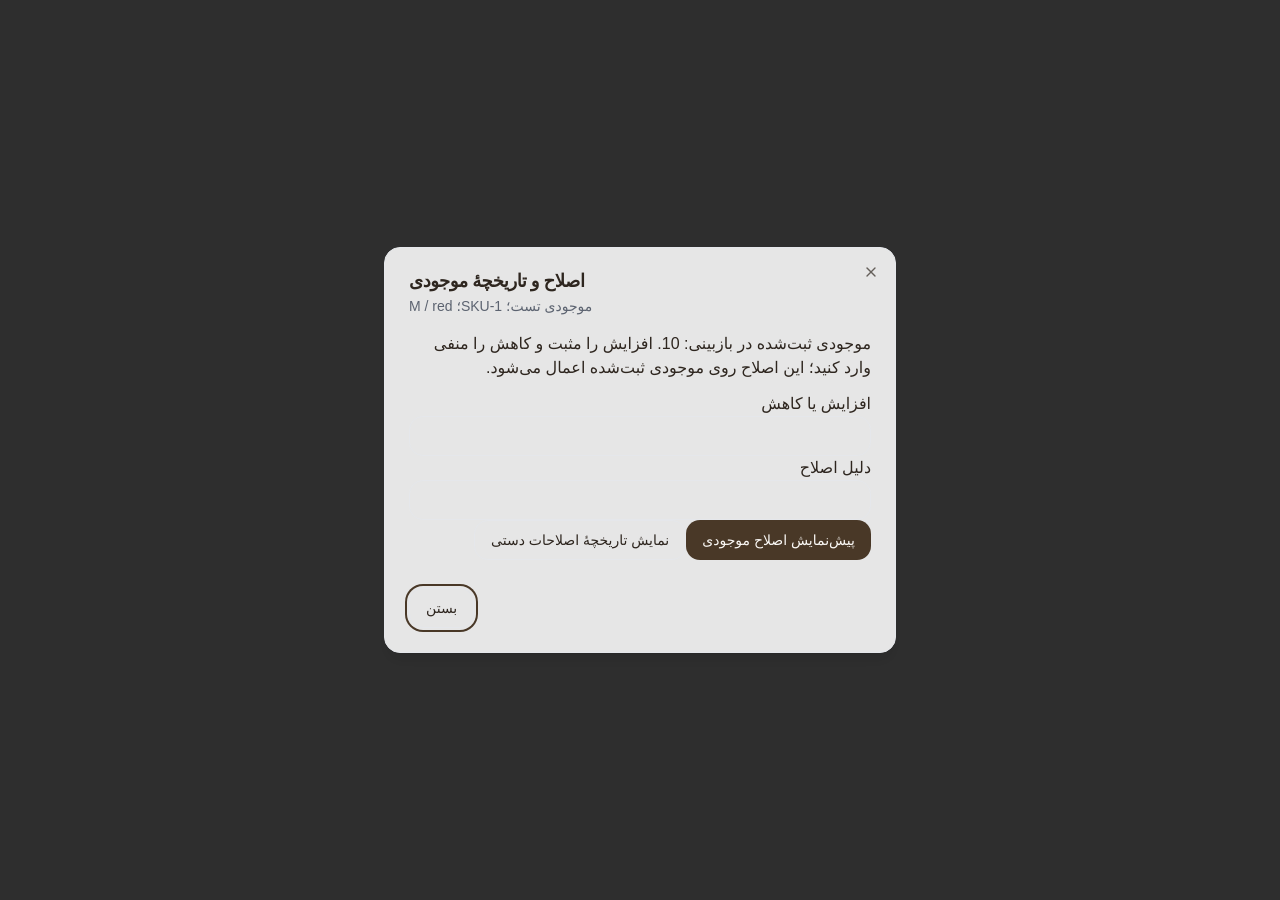
Test: adjustment confirmation and recovery UI › shows the manual-history scope rather than pretending it contains reservations or legacy edits
This screenshot has width=1280, height=900.
Click the button "نمایش تاریخچهٔ اصلاحات دستی" at [580, 540], box [474,520,686,560]
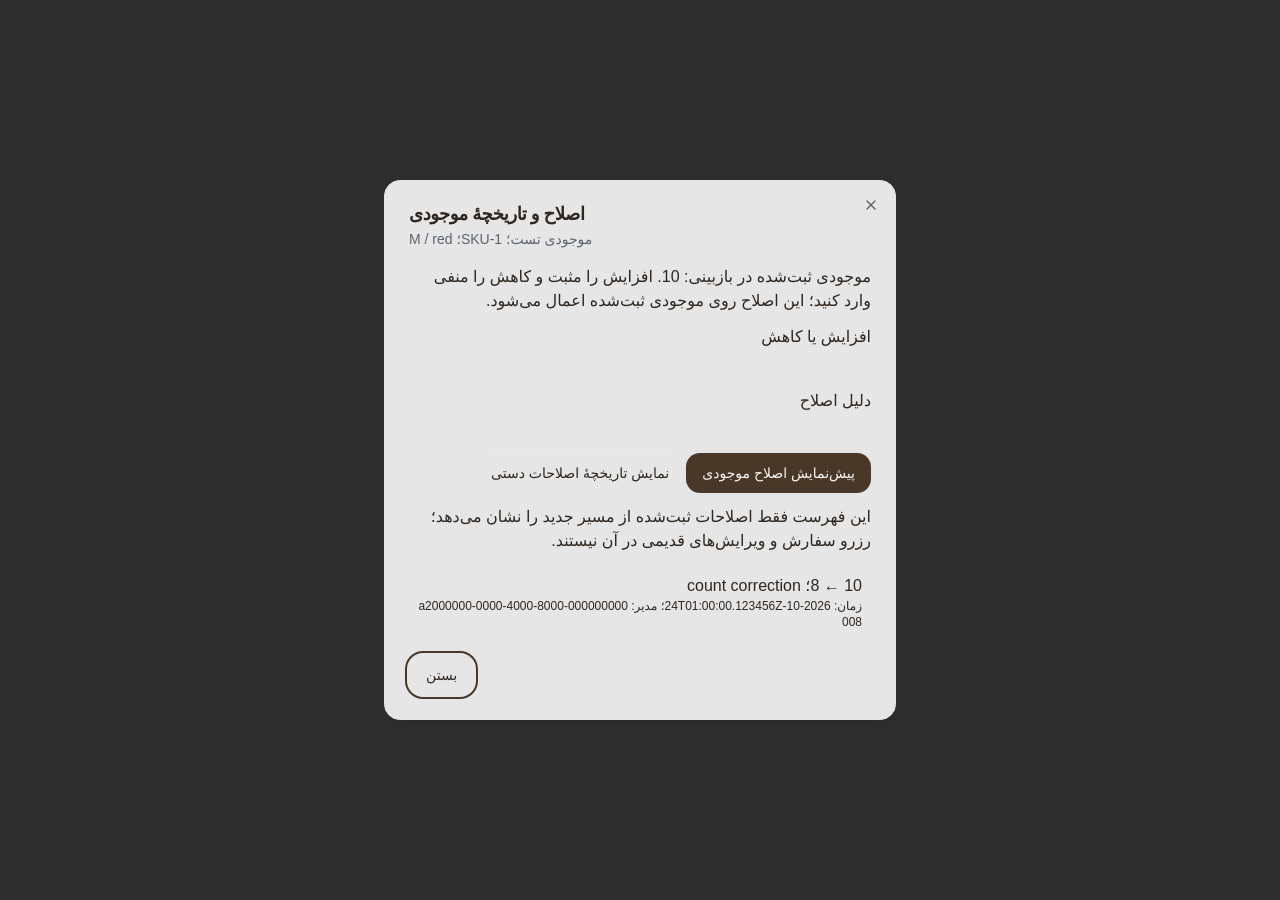
Check: the text "این فهرست فقط اصلاحات ثبت‌شده از مسیر جدید" is shown, box [431,508,871,549]
Check: the text "10 ← 8؛ count correction" is shown, box [687,577,862,594]
